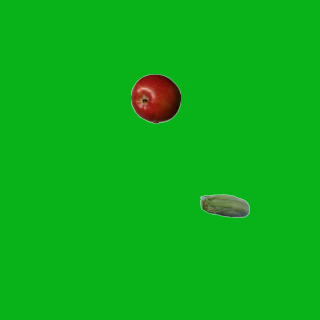Apple Braeburn: (130, 73, 180, 123)
Corn Husk: (199, 182, 249, 232)
